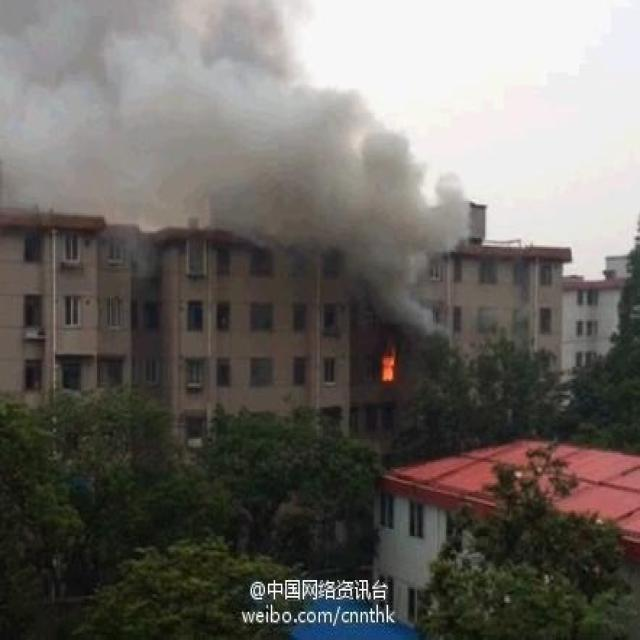Fire: (380, 352, 396, 382)
Smoke: (1, 2, 474, 354)
